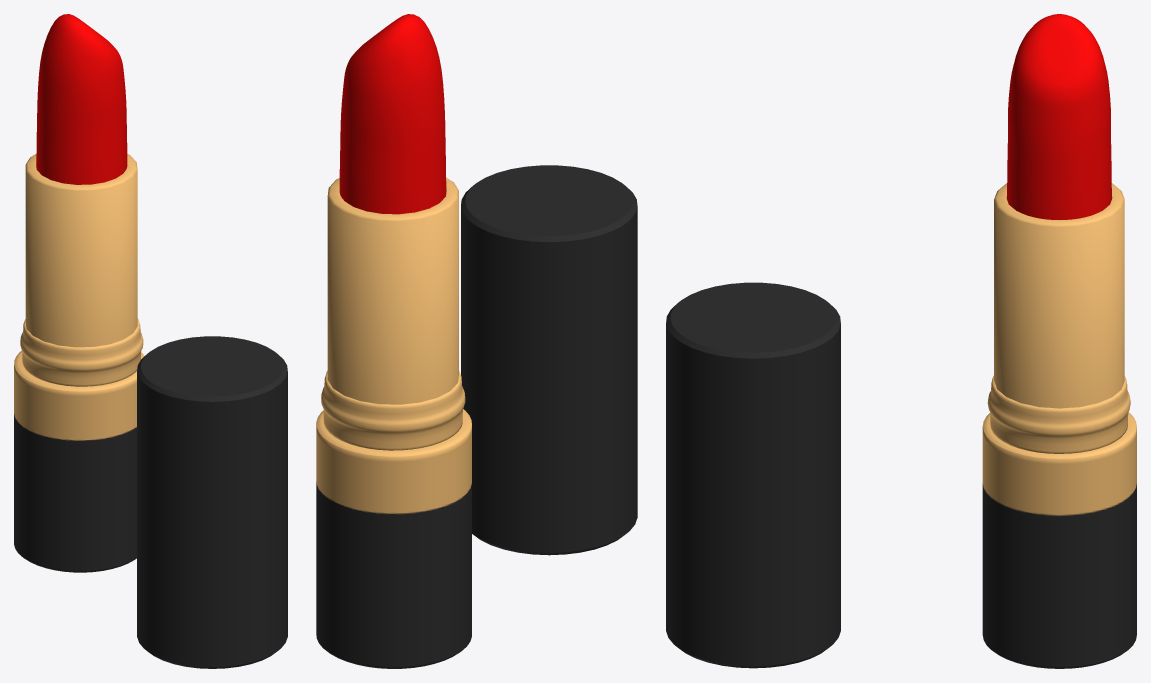
The model's file is lipstick.glb.
3 renders of one model, left to right at view 1: azimuth 30°, elevation 25°; view 2: azimuth 150°, elevation 25°; view 3: azimuth 270°, elevation 25°, orthographic. The views are drawn at different scales.
Parts seen in each view (by area): view 1: lipstick_cap, lipstick_holder, lipstick_red; view 2: lipstick_holder, lipstick_cap, lipstick_red; view 3: lipstick_holder, lipstick_cap, lipstick_red.
Boxes of the visible parts, bbox=[...] form: lipstick_cap: bbox=[137, 336, 287, 668]; lipstick_holder: bbox=[14, 153, 144, 572]; lipstick_red: bbox=[36, 14, 127, 184]; lipstick_holder: bbox=[316, 177, 471, 668]; lipstick_cap: bbox=[461, 165, 637, 555]; lipstick_red: bbox=[339, 14, 446, 214]; lipstick_holder: bbox=[982, 183, 1136, 668]; lipstick_cap: bbox=[666, 282, 840, 668]; lipstick_red: bbox=[1007, 14, 1111, 219].
Bounding box in the file's own units: 0.5614 × 2.19 × 1.51.
Materials: 3 (3 with a texture image).
